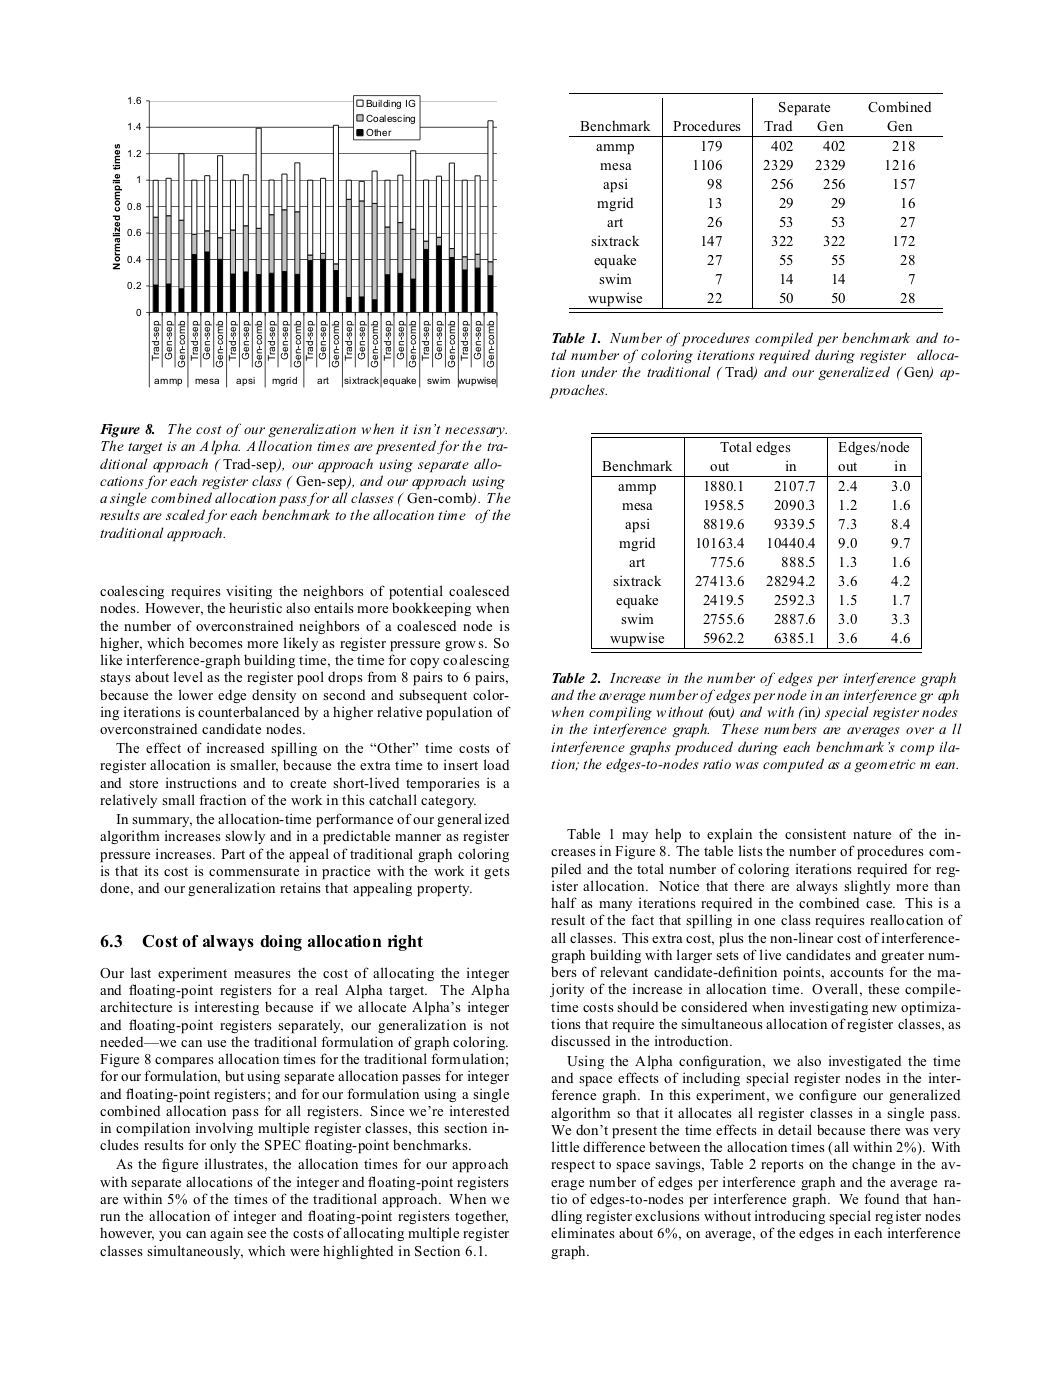Table: (570, 97, 942, 313), (591, 432, 921, 651)
figure: (111, 94, 497, 388)
